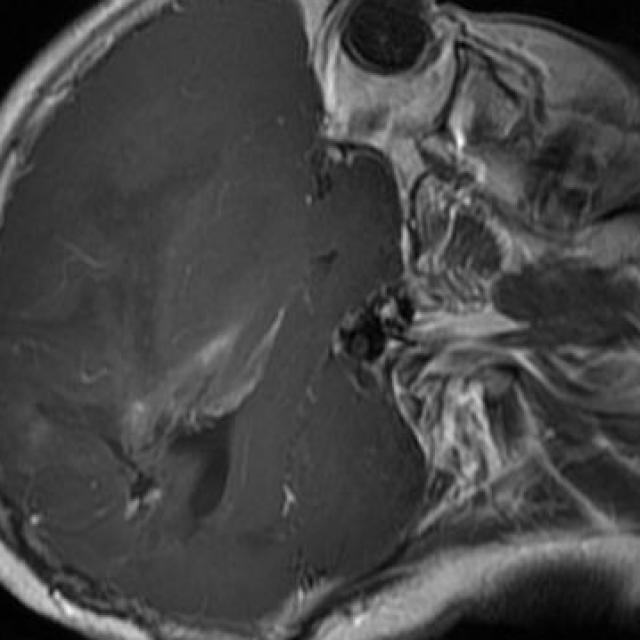glioma: (37, 305, 287, 527)
